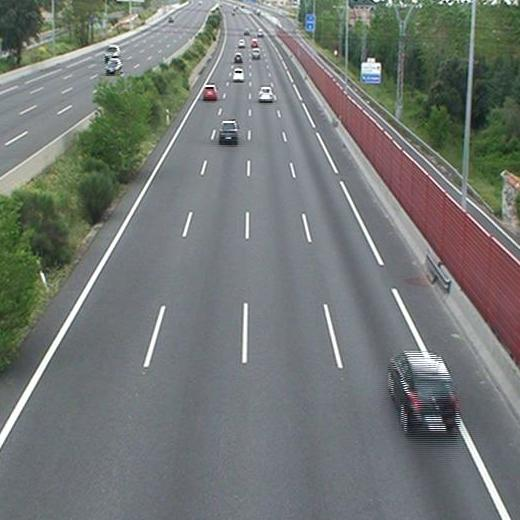car: (389, 352, 455, 431), (219, 121, 238, 142), (203, 85, 217, 100), (258, 86, 272, 100), (232, 69, 245, 82), (233, 53, 243, 62), (251, 49, 260, 58), (237, 38, 245, 47), (251, 39, 258, 46)
